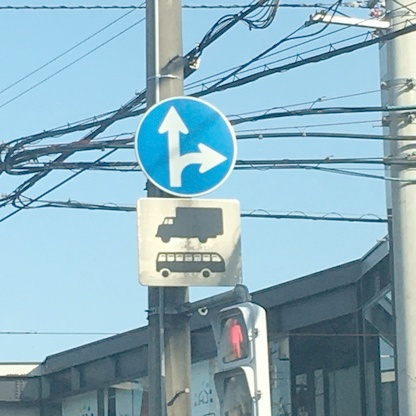Direction_sign: (125, 89, 253, 201)
